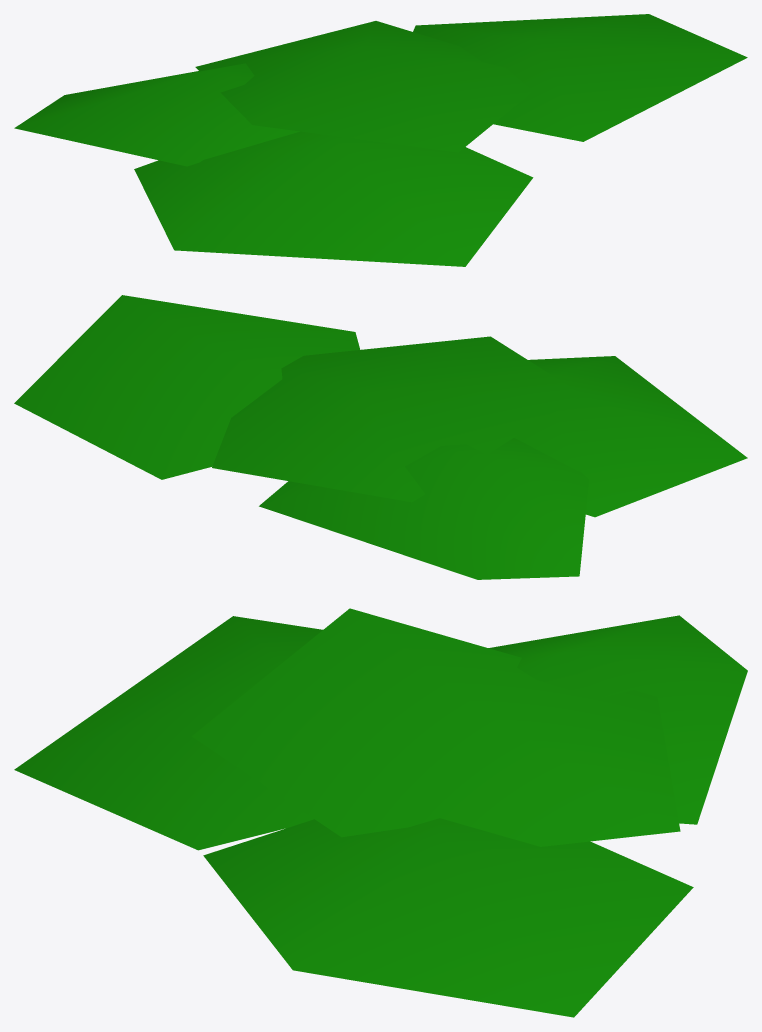
File: RedFirBranches.fbx
The picture shows the model from 3 angles, top to bottom: view 1: azimuth 30°, elevation 25°; view 2: azimuth 150°, elevation 25°; view 3: azimuth 270°, elevation 25°; orthographic projection. The views are drawn at different scales.
Visible parts, largest first — view 1: RedFirBranches; view 2: RedFirBranches; view 3: RedFirBranches.
Boxes of the visible parts, x1=… form: RedFirBranches: x1=14, y1=14, x2=747, y2=266; RedFirBranches: x1=14, y1=295, x2=747, y2=579; RedFirBranches: x1=14, y1=608, x2=747, y2=1017.
Size of the model in its own units: 222 by 26.57 by 172.
